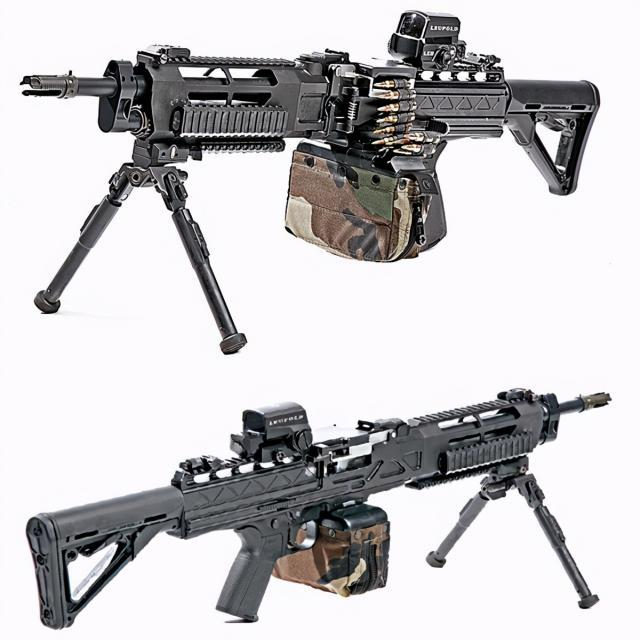weapon: (19, 9, 602, 360), (26, 386, 614, 631)
